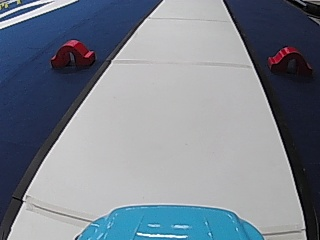bridge: (49, 35, 96, 70), (265, 42, 313, 76)
